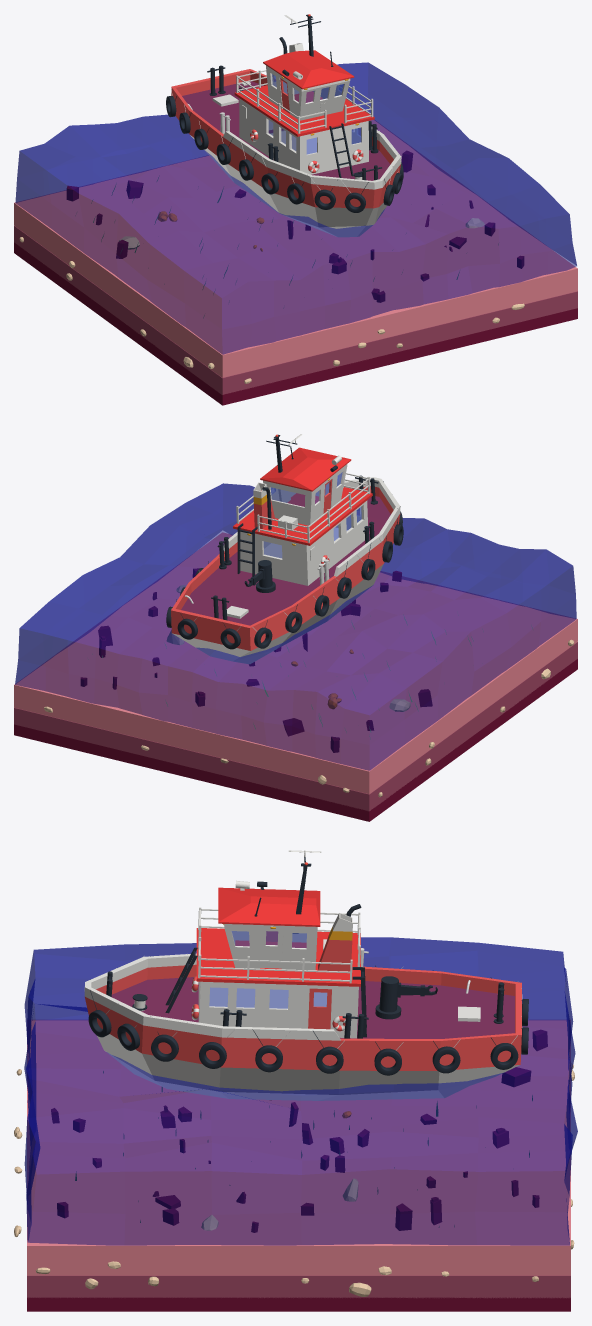
The model's file is Lowpoly_Washington_Monument.fbx.
3 views of the same model, one above another, from view 1: azimuth 30°, elevation 25°; view 2: azimuth 150°, elevation 25°; view 3: azimuth 270°, elevation 25° (orthographic). The views are drawn at different scales.
Parts seen in each view (by area): view 1: Water, Cube_2_2, Body, Cube_1_2, Cube_2, Floor_1, Floor_2, Cube_2_4, Roof, Stones_2; view 2: Water, Cube_2_2, Body, Cube_1_2, Cube_2, Floor_1, Floor_2, Roof, Cube_2_4, Stones_2, Pipe_Big; view 3: Water, Cube_2_2, Body, Cube_1_2, Cube_2, Floor_1, Cube_2_4, Floor_2, Roof, Stones_2, Pipe_Big, Cylinder_5.
Part boxes in pixels (bbox=[...]): Water: bbox=[15, 62, 576, 354]; Cube_2_2: bbox=[14, 120, 577, 377]; Body: bbox=[171, 69, 401, 237]; Cube_1_2: bbox=[14, 225, 577, 394]; Cube_2: bbox=[14, 242, 577, 405]; Floor_1: bbox=[239, 98, 368, 174]; Floor_2: bbox=[266, 65, 350, 120]; Cube_2_4: bbox=[234, 85, 374, 136]; Roof: bbox=[263, 50, 354, 89]; Stones_2: bbox=[19, 218, 524, 383]; Water: bbox=[15, 483, 576, 770]; Cube_2_2: bbox=[14, 532, 577, 794]; Body: bbox=[171, 477, 400, 664]; Cube_1_2: bbox=[14, 642, 577, 811]; Cube_2: bbox=[14, 659, 577, 821]; Floor_1: bbox=[240, 500, 367, 585]; Floor_2: bbox=[263, 464, 347, 525]; Roof: bbox=[260, 447, 351, 491]; Cube_2_4: bbox=[233, 487, 372, 545]; Stones_2: bbox=[44, 585, 574, 797]; Pipe_Big: bbox=[253, 482, 274, 528]; Water: bbox=[24, 937, 577, 1245]; Cube_2_2: bbox=[27, 1020, 570, 1275]; Body: bbox=[84, 953, 521, 1100]; Cube_1_2: bbox=[27, 1275, 570, 1298]; Cube_2: bbox=[27, 1297, 570, 1311]; Floor_1: bbox=[198, 981, 358, 1038]; Cube_2_4: bbox=[196, 928, 360, 986]; Floor_2: bbox=[224, 924, 317, 970]; Roof: bbox=[218, 887, 320, 926]; Stones_2: bbox=[14, 1063, 574, 1296]; Pipe_Big: bbox=[318, 912, 352, 971]; Cylinder_5: bbox=[379, 976, 398, 1012].
Size of the model in its own units: 1635 by 1138 by 1676.
